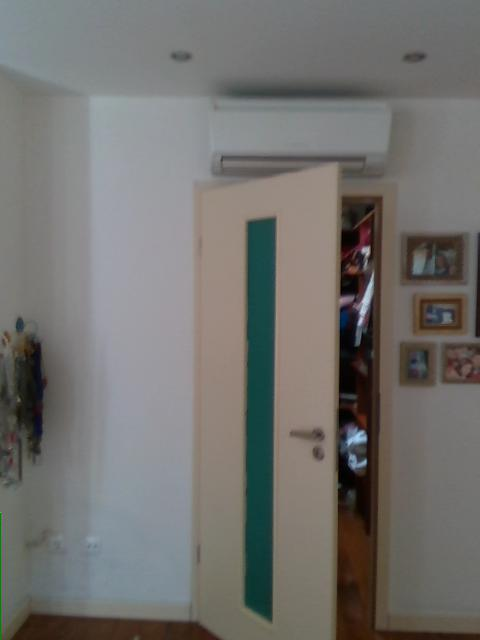semi_door: (186, 157, 399, 639)
